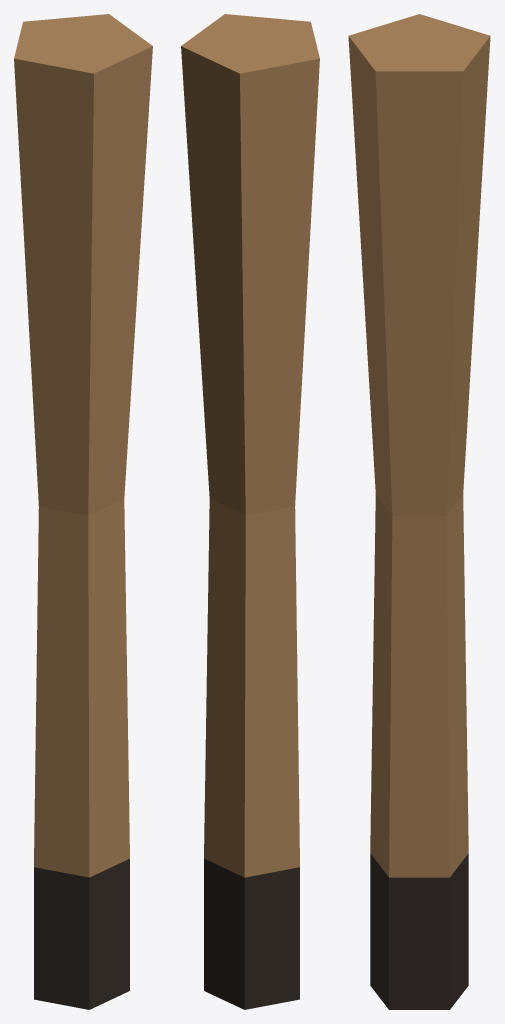
File: animal_gazelle_leg.obj
The picture shows the model from 3 angles, left to right: view 1: azimuth 30°, elevation 25°; view 2: azimuth 150°, elevation 25°; view 3: azimuth 270°, elevation 25°; orthographic projection.
Visible parts, largest first — view 1: animal_gazelle_leg; view 2: animal_gazelle_leg; view 3: animal_gazelle_leg.
Part boxes in pixels (x1,y1,x2,y2): animal_gazelle_leg: (14,14,152,1009); animal_gazelle_leg: (181,14,319,1009); animal_gazelle_leg: (348,14,490,1009).
Bounding box in the file's own units: 0.0659 × 0.5088 × 0.0692.
